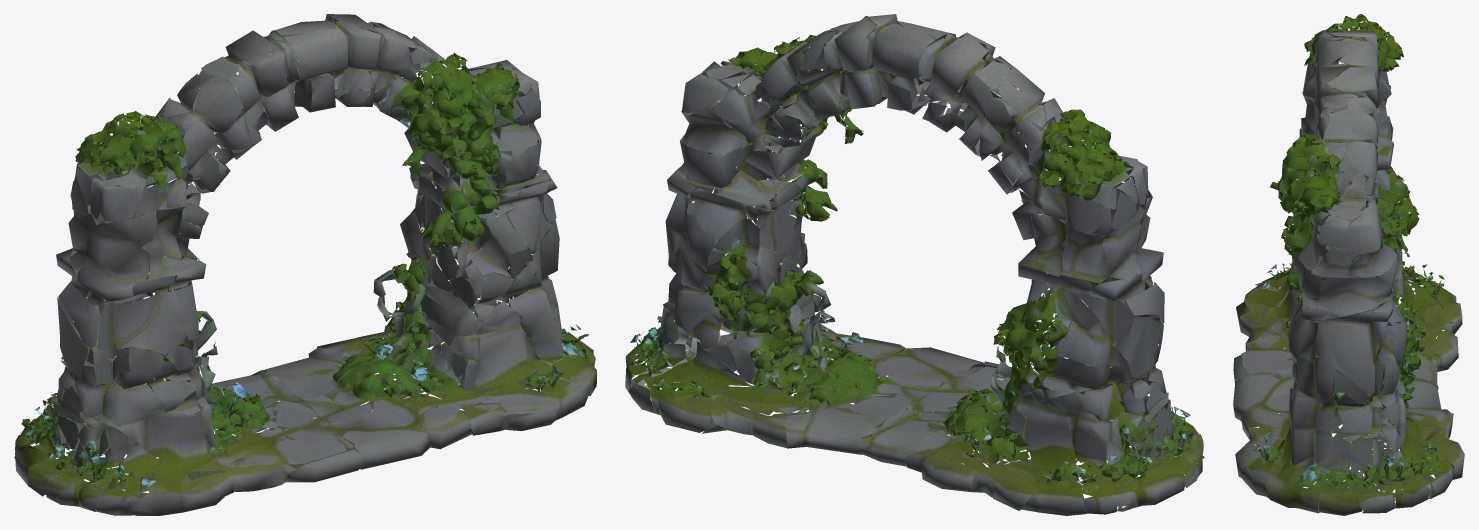
File: stone_arch.glb
The picture shows the model from 3 angles, left to right: view 1: azimuth 30°, elevation 25°; view 2: azimuth 150°, elevation 25°; view 3: azimuth 270°, elevation 25°; orthographic projection. The views are drawn at different scales.
Visible parts, largest first — view 1: stone_arch; view 2: stone_arch; view 3: stone_arch.
Boxes of the visible parts, x1,y1,x2,y2 form: stone_arch: (14, 14, 596, 515); stone_arch: (625, 14, 1204, 515); stone_arch: (1233, 14, 1464, 515).
Bounding box in the file's own units: 3.36 × 2.3 × 1.38.
1 material, 1 textured.
